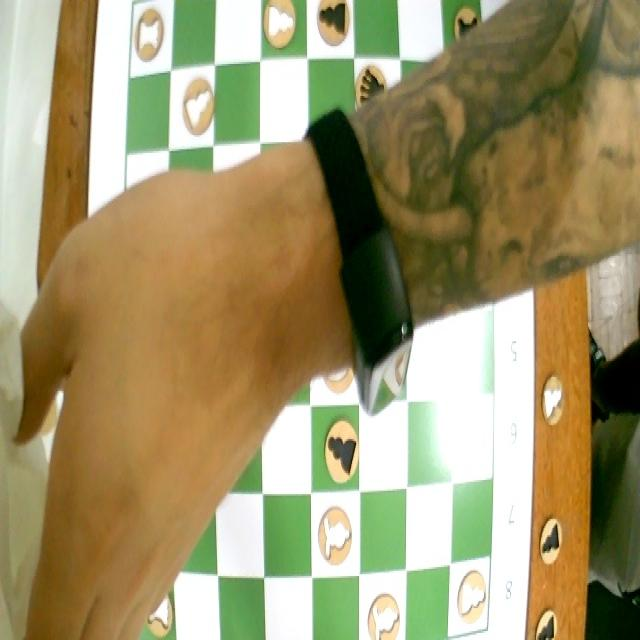chess-pieces: (171, 69, 214, 153), (313, 500, 356, 572), (449, 563, 490, 625), (324, 412, 359, 484), (132, 0, 168, 64), (264, 0, 306, 54), (314, 0, 354, 53), (369, 579, 402, 640), (352, 59, 398, 102)
